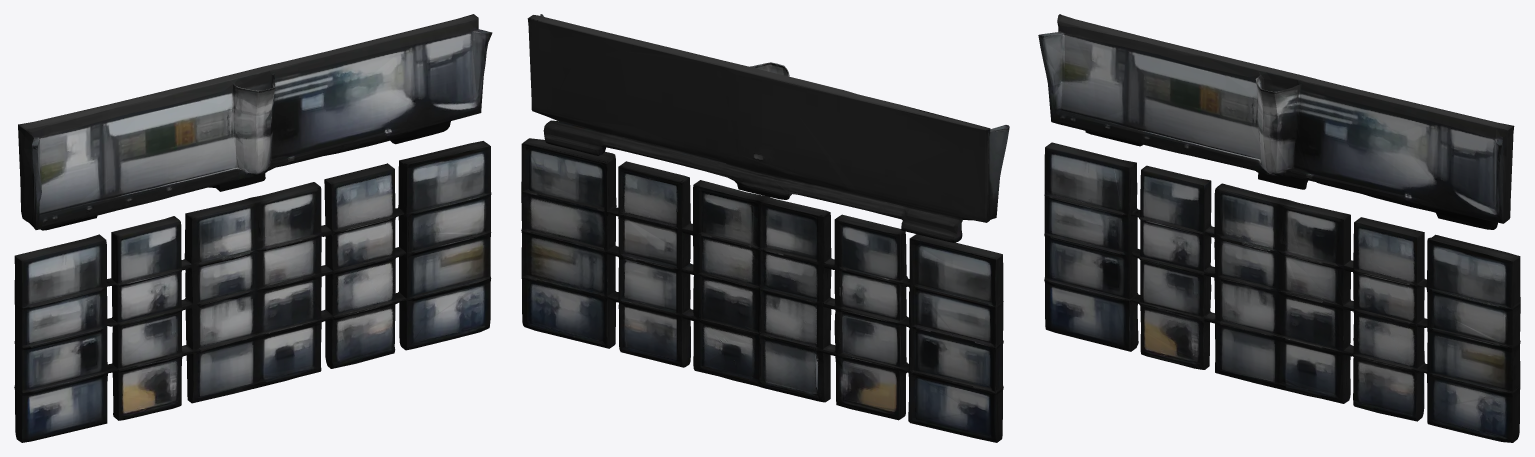
3 views of the same model, side by side, from view 1: azimuth 30°, elevation 25°; view 2: azimuth 150°, elevation 25°; view 3: azimuth 330°, elevation 25° (orthographic).
Visible parts, largest first — view 1: geometry_0; view 2: geometry_0; view 3: geometry_0.
Part boxes in pixels (box(x1,y1,x2,y2)): geometry_0: box(14, 14, 492, 442); geometry_0: box(521, 14, 1009, 442); geometry_0: box(1038, 14, 1520, 442).
Size of the model in its own units: 1 by 0.6365 by 0.1019.
Materials: 1 (1 with a texture image).
